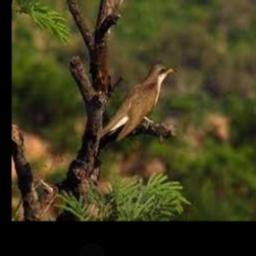Cuckoo: (97, 62, 173, 142)
